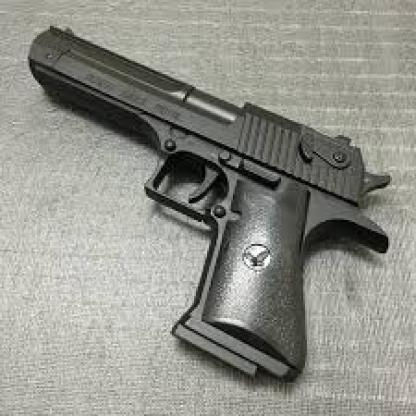Pistol: (0, 29, 413, 369)
